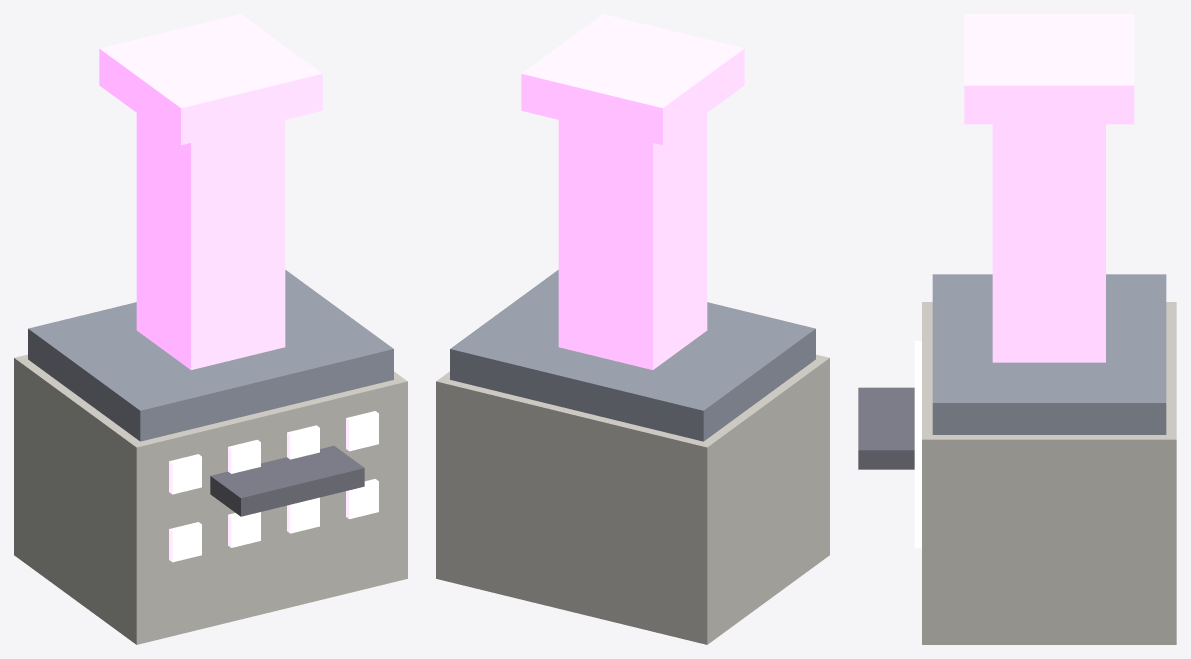
File: copier_portal.glb
3 renders of one model, left to right at view 1: azimuth 30°, elevation 25°; view 2: azimuth 150°, elevation 25°; view 3: azimuth 270°, elevation 25°, orthographic. The views are drawn at different scales.
Parts seen in each view (by area): view 1: Base, Column, Top, Flare, Tray, RuneS0, RuneS3, Rune0, Rune3, Rune1, Rune2, RuneS2 (+1 smaller); view 2: Base, Column, Top, Flare; view 3: Base, Top, Column, Flare, Tray.
Boxes of the visible parts, box(x1,y1,x2,y2) form: Base: box(14, 354, 407, 644); Column: box(136, 113, 285, 369); Top: box(28, 270, 393, 441); Flare: box(99, 14, 322, 145); Tray: box(210, 445, 364, 516); RuneS0: box(169, 454, 201, 494); RuneS3: box(346, 411, 378, 451); Rune0: box(169, 522, 201, 562); Rune3: box(346, 479, 378, 519); Rune1: box(228, 512, 260, 547); Rune2: box(287, 497, 319, 533); RuneS2: box(287, 425, 319, 459); Base: box(436, 354, 829, 644); Column: box(558, 113, 707, 369); Top: box(450, 270, 815, 441); Flare: box(521, 14, 744, 145); Base: box(922, 302, 1176, 644); Top: box(932, 274, 1166, 434); Column: box(992, 124, 1105, 362); Flare: box(964, 14, 1134, 124); Tray: box(858, 387, 914, 469).
Bounding box in the file's own units: 0.92 × 1.64 × 0.9.
